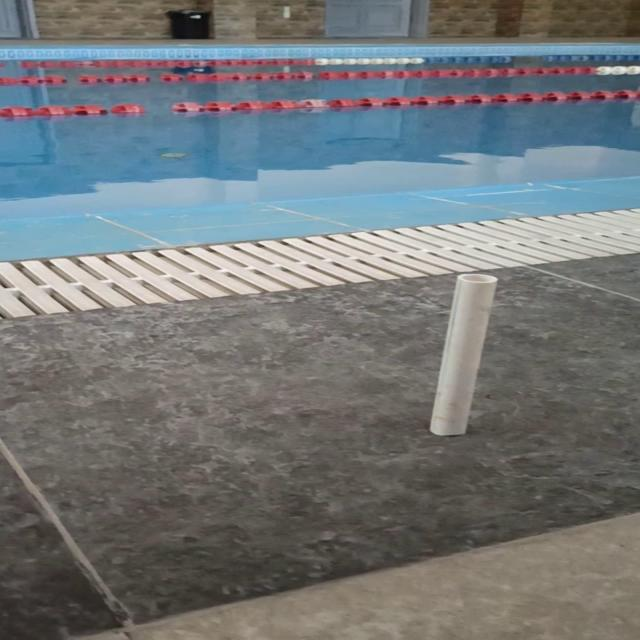Cube: (427, 272, 498, 436)
